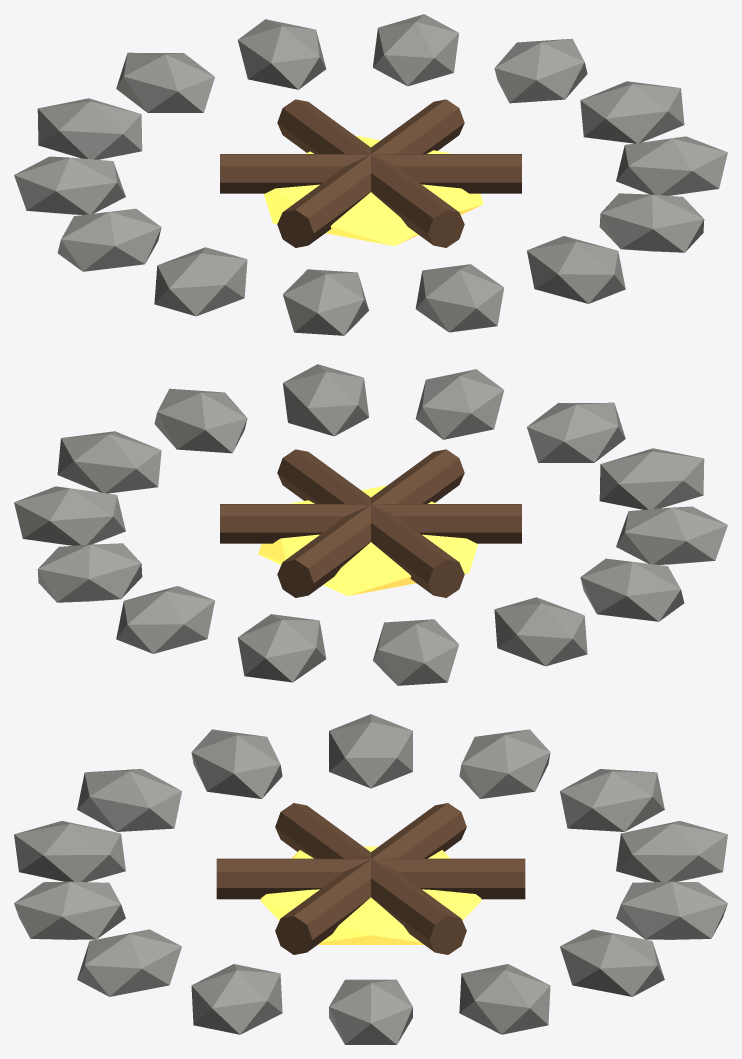
File: fire_pit.glb
The picture shows the model from 3 angles, top to bottom: view 1: azimuth 30°, elevation 25°; view 2: azimuth 150°, elevation 25°; view 3: azimuth 270°, elevation 25°; orthographic projection. The views are drawn at different scales.
Parts seen in each view (by area): view 1: Log1, Log0, Log2, Stone5, Stone13, Stone0, Stone6, Stone12, Stone7, Stone11, Stone8, Stone4 (+6 smaller); view 2: Log2, Log0, Log1, Stone9, Stone1, Stone0, Stone8, Stone2, Stone7, Stone3, Stone6, Stone10 (+6 smaller); view 3: Log0, Log1, Log2, Stone4, Stone10, Stone3, Stone11, Stone5, Stone9, Stone2, Stone12, Stone1 (+6 smaller).
Boxes of the visible parts, box(x1,y1,x2,y2) form: Log1: box(220, 154, 521, 193); Log0: box(277, 99, 464, 247); Log2: box(277, 99, 464, 247); Stone5: box(37, 98, 142, 159); Stone13: box(616, 136, 727, 195); Stone0: box(580, 81, 684, 143); Stone6: box(14, 156, 125, 214); Stone12: box(599, 193, 704, 252); Stone7: box(57, 208, 161, 271); Stone11: box(527, 236, 625, 303); Stone8: box(154, 247, 247, 316); Stone4: box(116, 52, 214, 112); Log2: box(220, 504, 521, 543); Log0: box(277, 449, 464, 597); Log1: box(277, 449, 464, 597); Stone9: box(599, 448, 704, 509); Stone1: box(14, 486, 125, 545); Stone0: box(57, 431, 161, 493); Stone8: box(616, 506, 727, 564); Stone2: box(37, 543, 142, 602); Stone7: box(580, 558, 684, 621); Stone3: box(116, 586, 214, 653); Stone6: box(494, 597, 587, 666); Stone10: box(527, 402, 625, 462); Log0: box(216, 858, 525, 899); Log1: box(275, 803, 466, 954); Log2: box(275, 803, 466, 954); Stone4: box(616, 821, 727, 882); Stone10: box(14, 821, 125, 882); Stone3: box(616, 881, 727, 939); Stone11: box(14, 881, 125, 939); Stone5: box(560, 769, 664, 831); Stone9: box(77, 769, 181, 831); Stone2: box(560, 929, 664, 996); Stone12: box(77, 929, 181, 996); Stone1: box(459, 964, 550, 1034).
Bounding box in the file's own units: 2.37 × 0.2296 × 2.31.
